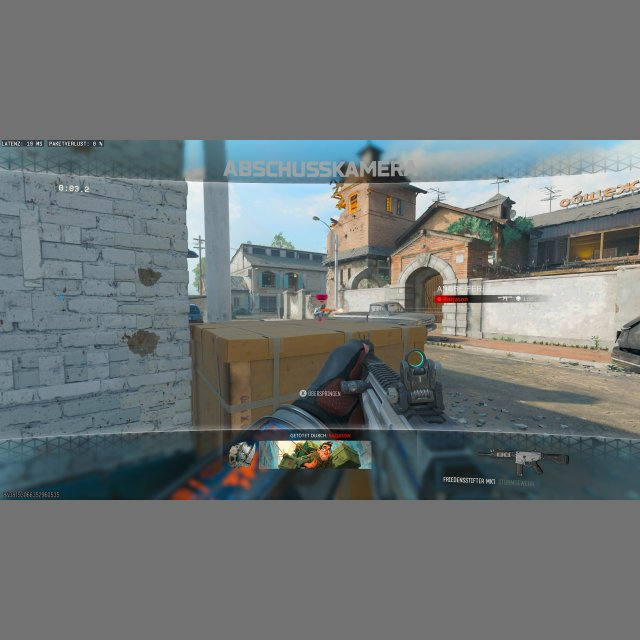player: (314, 303, 333, 320)
